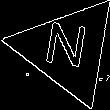N_S: (42, 22, 93, 78)
